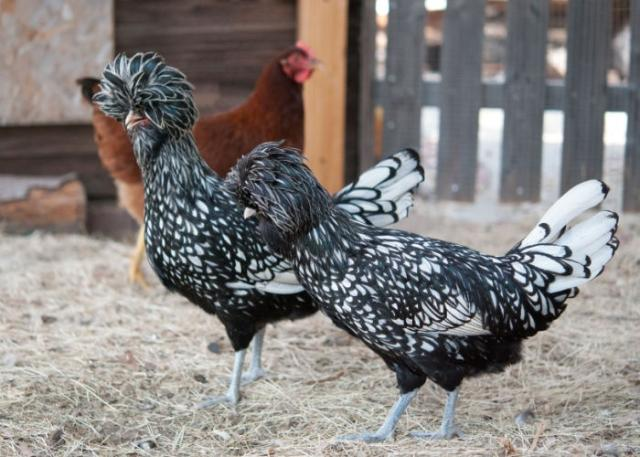Chicken: (226, 140, 621, 445), (93, 51, 426, 406), (77, 40, 326, 290)
